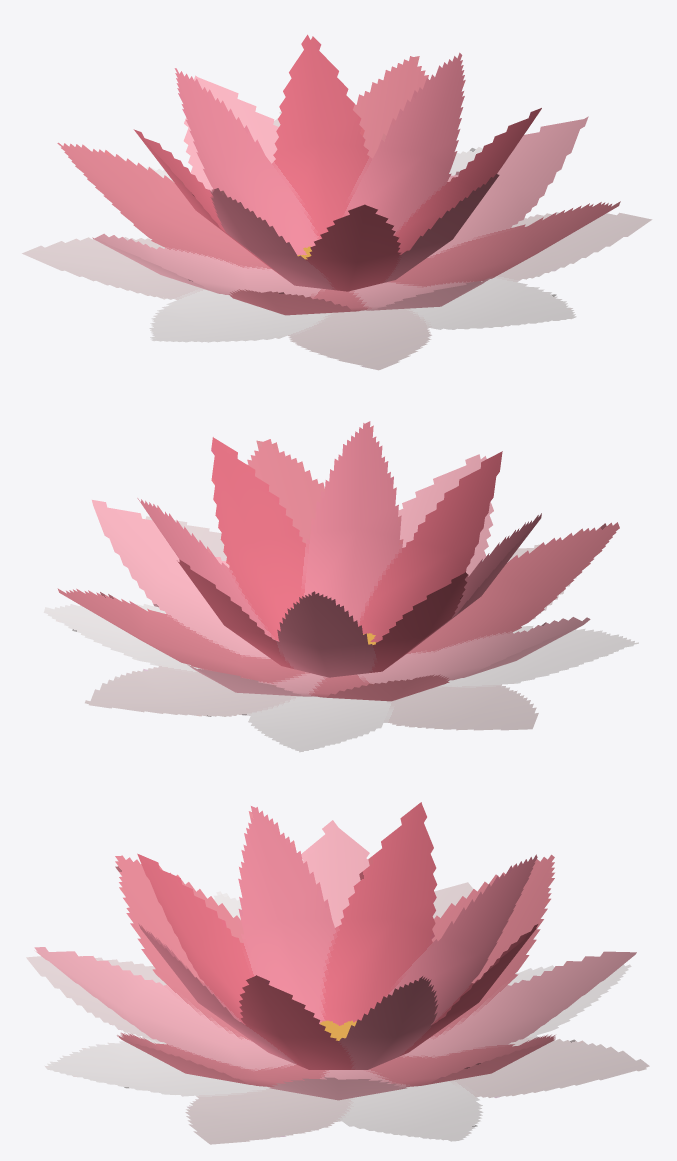
Rendered from Water_Lily_Blossom_1.gltf.
The picture shows the model from 3 angles, top to bottom: view 1: azimuth 30°, elevation 25°; view 2: azimuth 150°, elevation 25°; view 3: azimuth 270°, elevation 25°; orthographic projection. The views are drawn at different scales.
Visible parts, largest first — view 1: Water_Lily_Blossom_1; view 2: Water_Lily_Blossom_1; view 3: Water_Lily_Blossom_1.
Boxes of the visible parts, x1,y1,x2,y2 form: Water_Lily_Blossom_1: (22,34,652,370); Water_Lily_Blossom_1: (43,421,638,752); Water_Lily_Blossom_1: (26,802,649,1144).
Size of the model in its own units: 20.29 by 6.49 by 20.29.
1 material, 1 textured.
